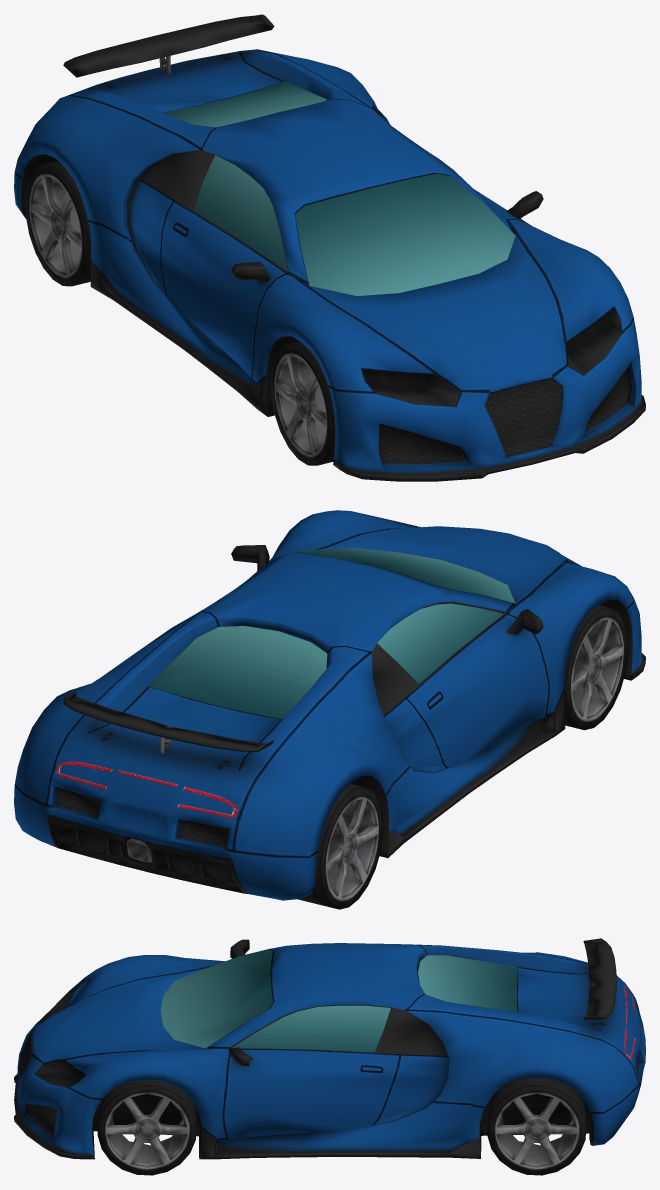
Rendered from VHC0310006.FBX.
The picture shows the model from 3 angles, top to bottom: view 1: azimuth 30°, elevation 25°; view 2: azimuth 150°, elevation 25°; view 3: azimuth 270°, elevation 25°; orthographic projection. The views are drawn at different scales.
Parts seen in each view (by area): view 1: smVHC0310006; view 2: smVHC0310006; view 3: smVHC0310006.
Part boxes in pixels (x1,y1,x2,y2): smVHC0310006: (14, 14, 645, 481); smVHC0310006: (14, 510, 645, 909); smVHC0310006: (14, 938, 645, 1175).
Size of the model in its own units: 215 by 129 by 479.
Materials: 1 (1 with a texture image).
